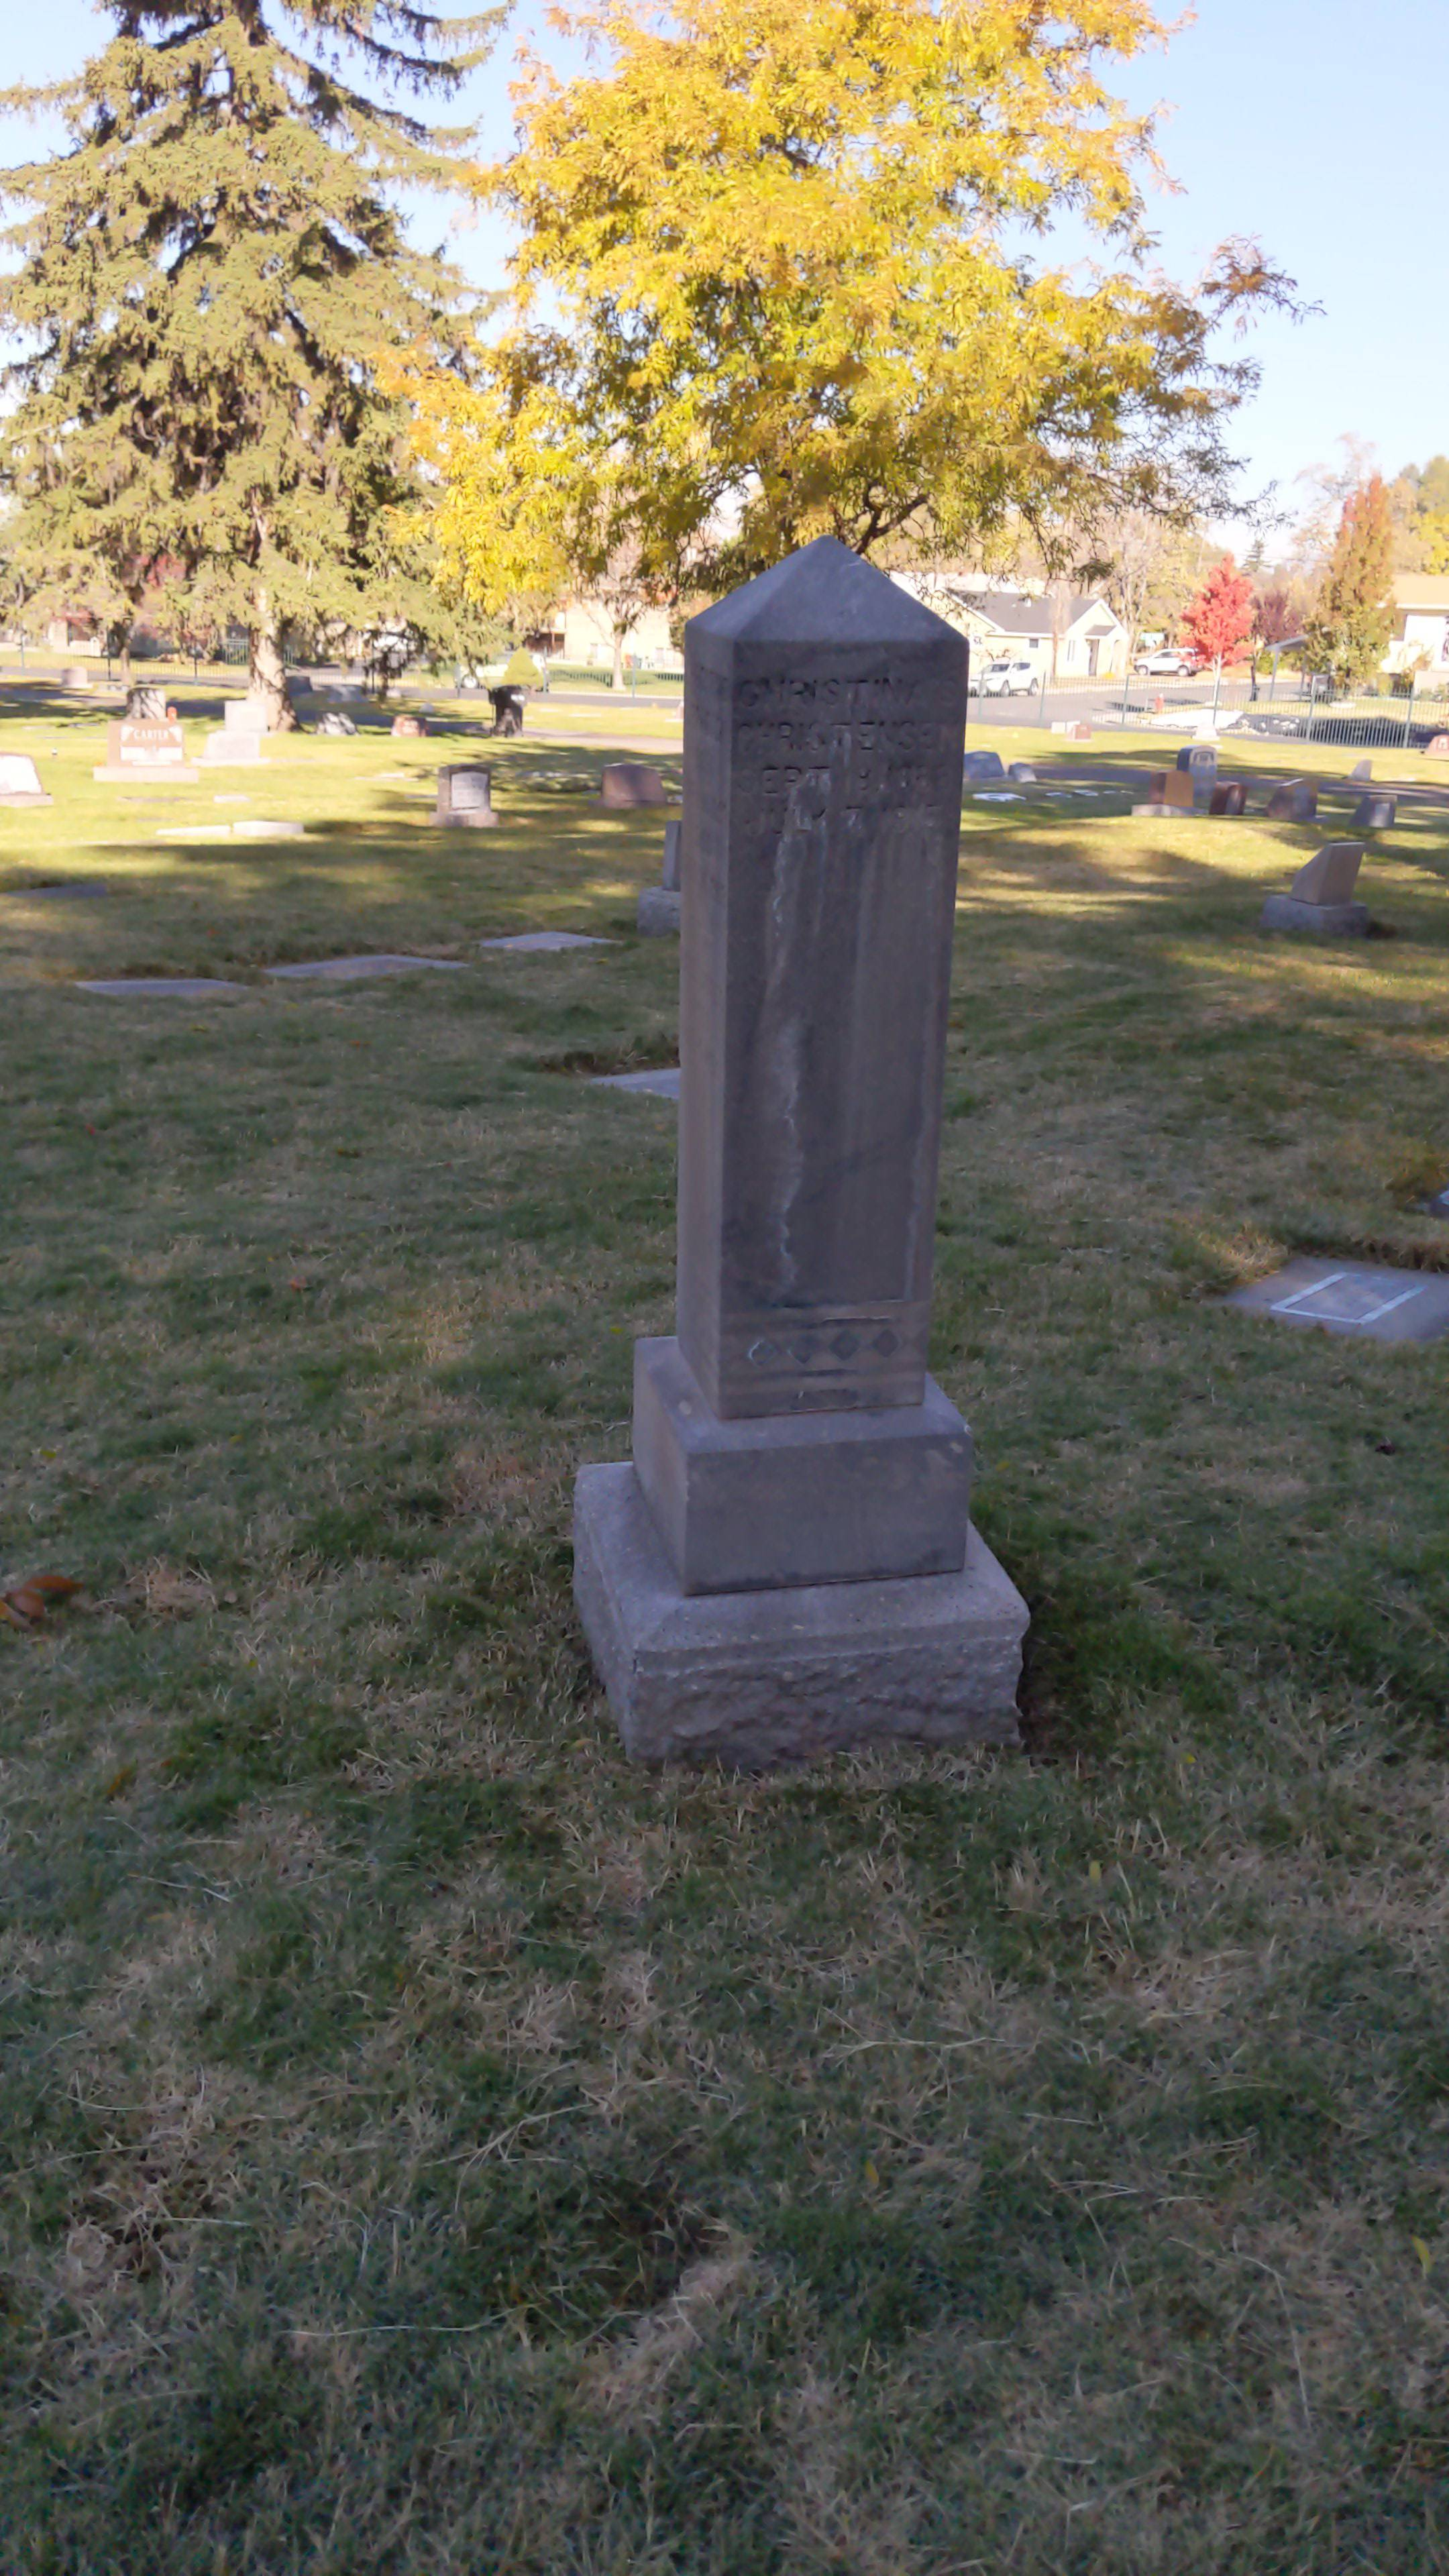obelisk: (632, 531, 977, 1592)
